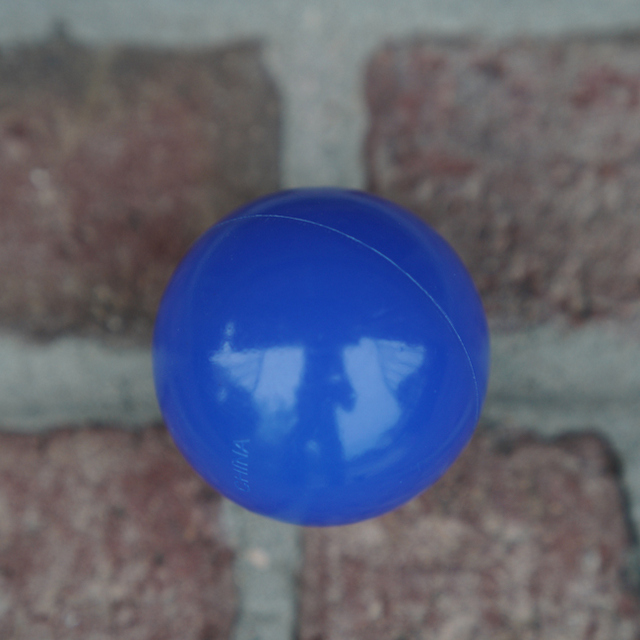Ball: (153, 185, 491, 529)
